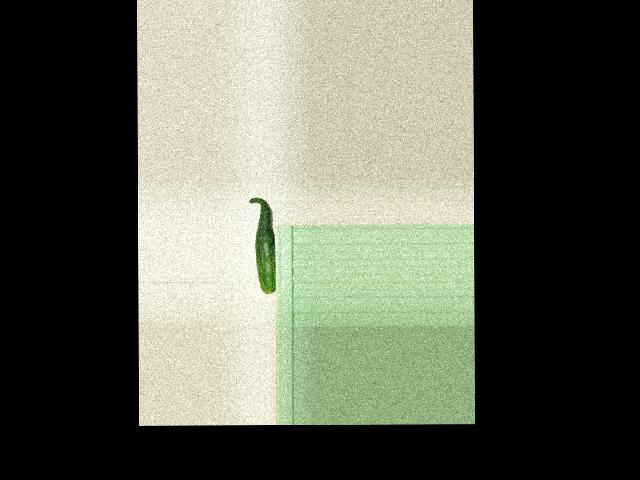cucumber: (249, 197, 275, 293)
